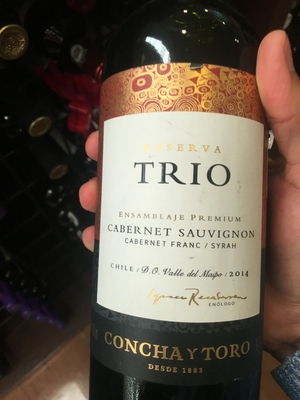trio cabernet sauvignon: (78, 26, 279, 400)
